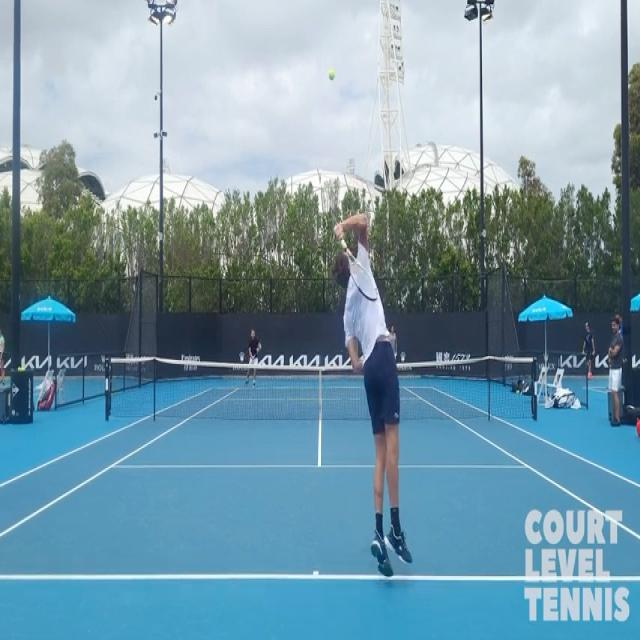serve_hit: (330, 189, 432, 564)
